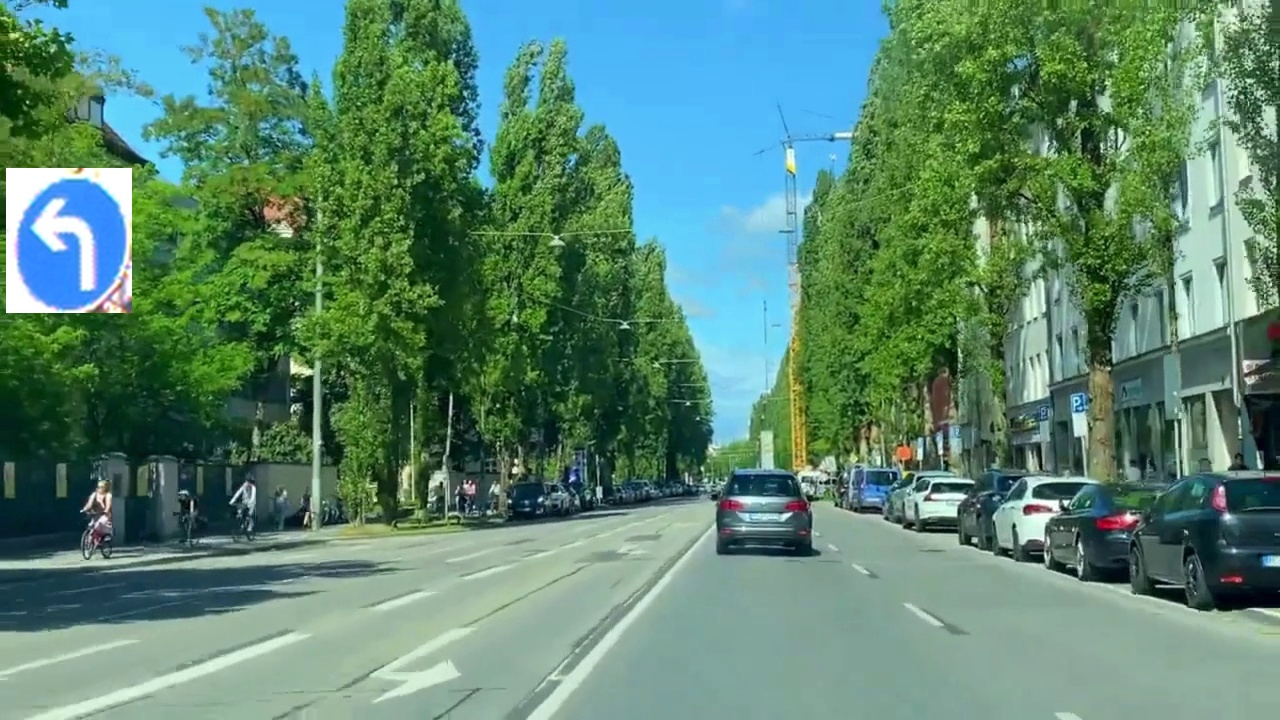Turn left: (6, 168, 132, 313)
